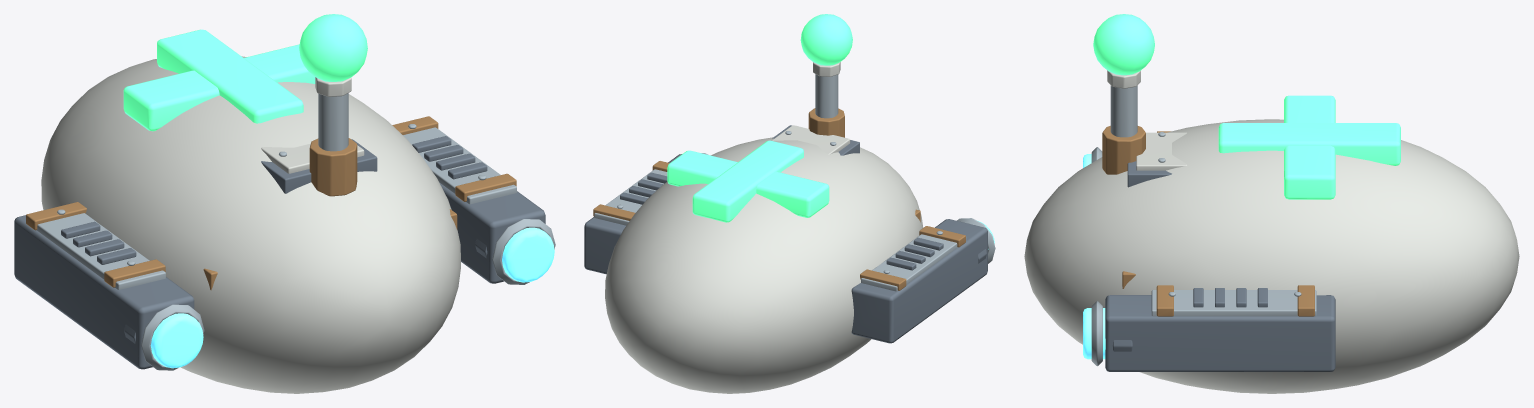
The model's file is repair-pod.glb.
The picture shows the model from 3 angles, left to right: view 1: azimuth 30°, elevation 25°; view 2: azimuth 150°, elevation 25°; view 3: azimuth 270°, elevation 25°; orthographic projection. The views are drawn at different scales.
Parts seen in each view (by area): view 1: repair-pod; view 2: repair-pod; view 3: repair-pod.
Boxes of the visible parts, x1,y1,x2,y2 form: repair-pod: (14,14,555,393); repair-pod: (584,14,995,393); repair-pod: (1024,14,1519,393).
Bounding box in the file's own units: 1.49 × 1.37 × 1.72.
